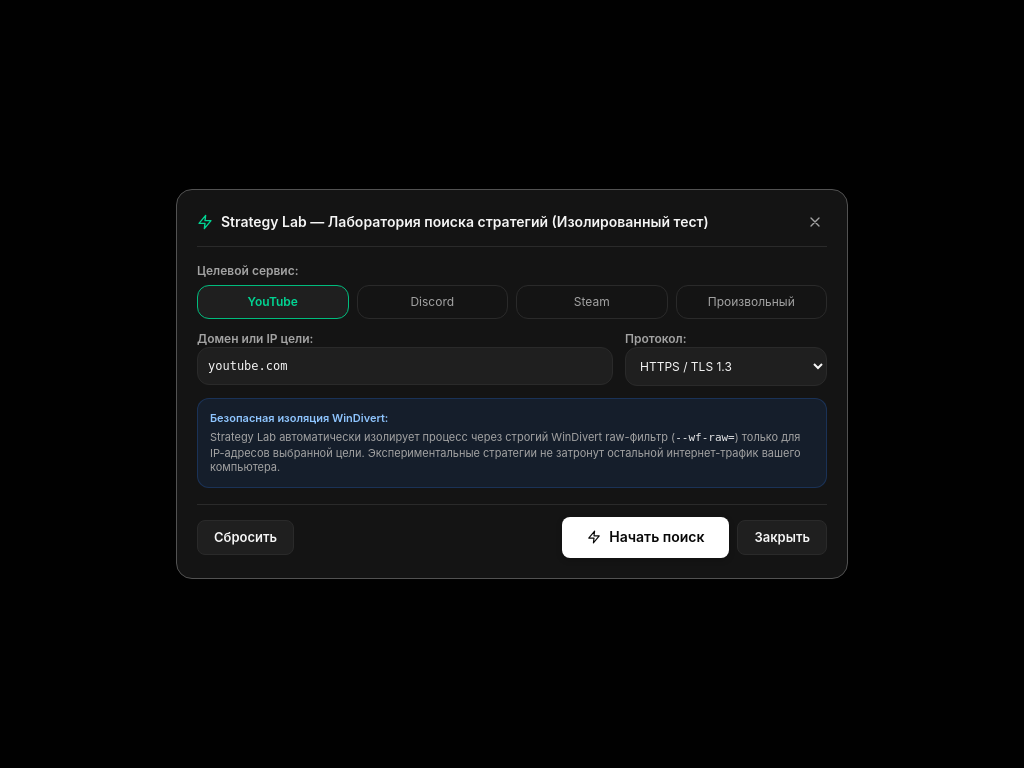
Test: StrategyLabModal Tests › handles start discovery and displays results
Click the button "Начать поиск": (646, 537) x1=562 y1=517 x2=730 y2=558
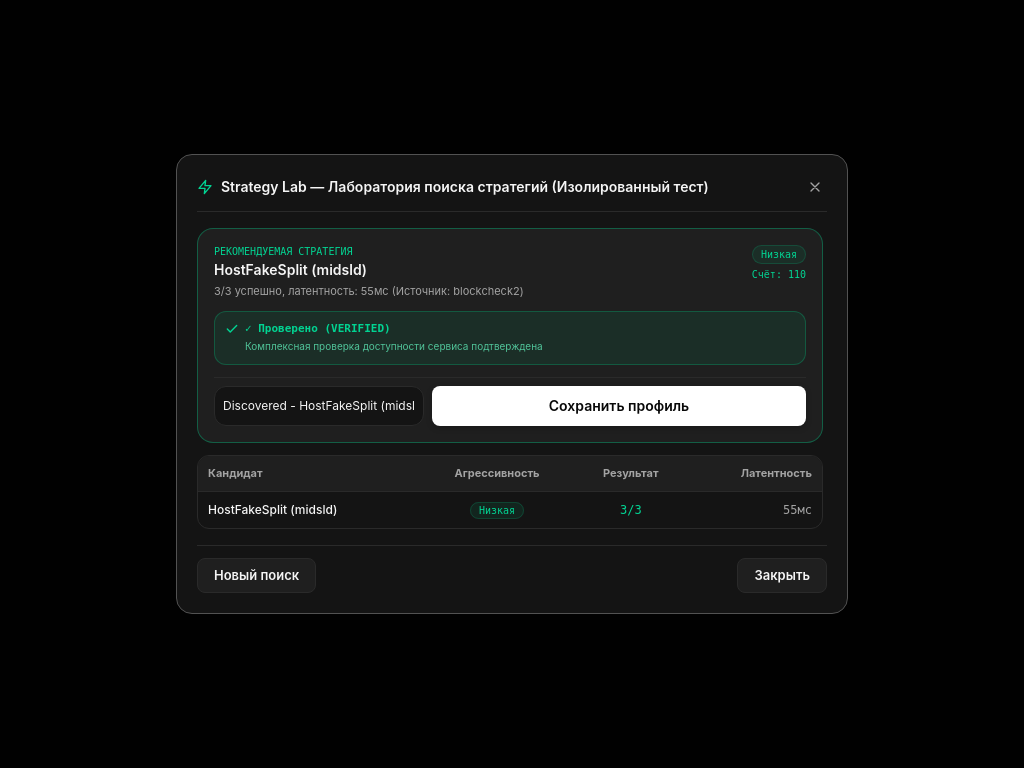
Expected: the text "Рекомендуемая стратегия" is shown, x1=214 y1=246 x2=352 y2=257
Expected: the text "✓ Проверено (VERIFIED)" is shown, x1=245 y1=322 x2=391 y2=336
Expected: the button "Сохранить профиль" is shown, x1=432 y1=386 x2=806 y2=426
